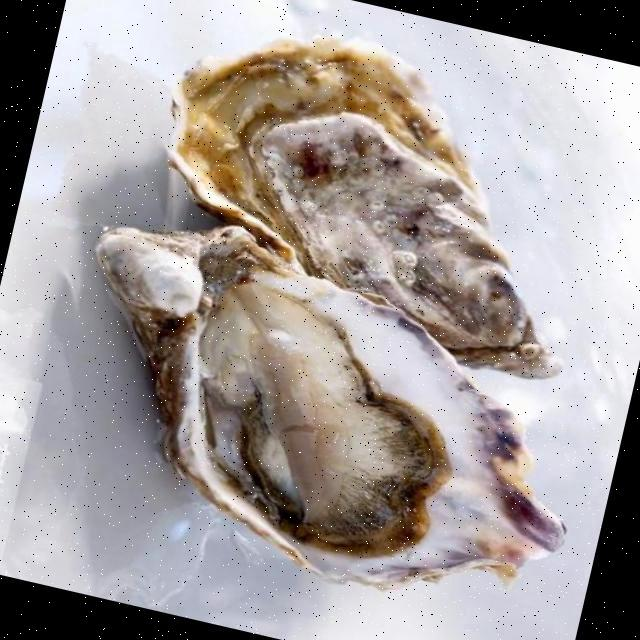Oyster-Closed: (164, 36, 562, 380)
Oyster-Open: (94, 224, 568, 590)
